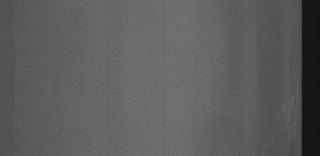silk spot: (272, 81, 300, 130)
